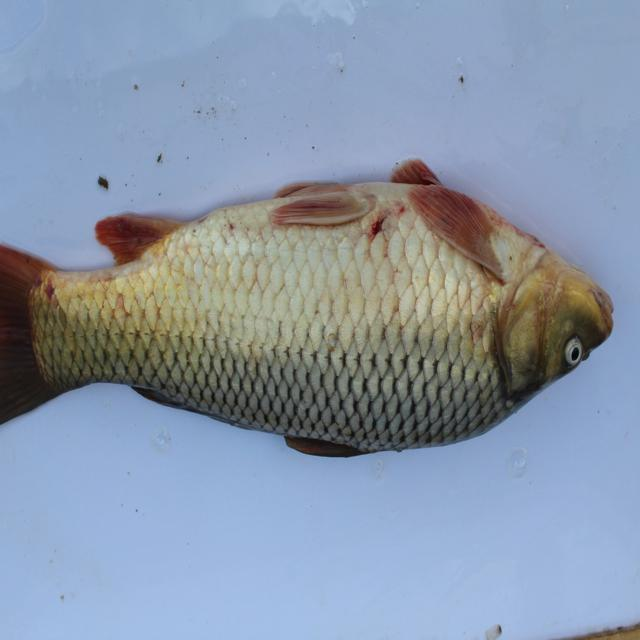CommonCarp: (1, 151, 628, 476)
